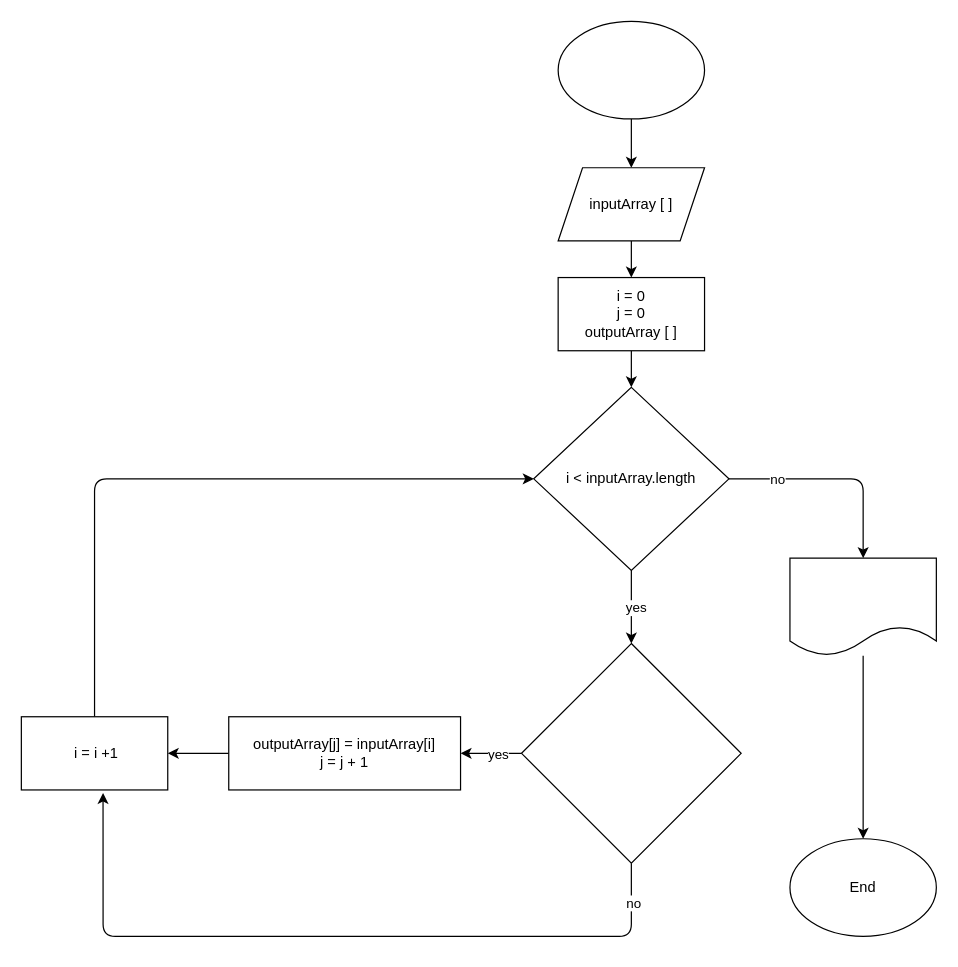
Image size: 958x967. Some labels were removed from this diagram. Each missing label, with the centre of its shape:
inputArray[i].length <= 3: point (630, 752)
Print (outputArray): point (862, 606)
Start: point (631, 69)
